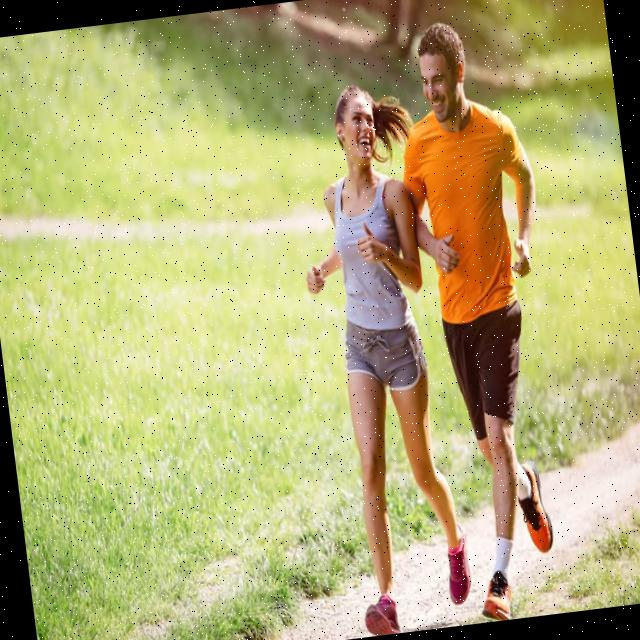Person: (378, 9, 586, 626), (279, 76, 478, 639)
